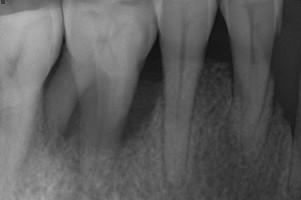Dental Caries: (119, 79, 163, 149), (36, 96, 82, 162)
